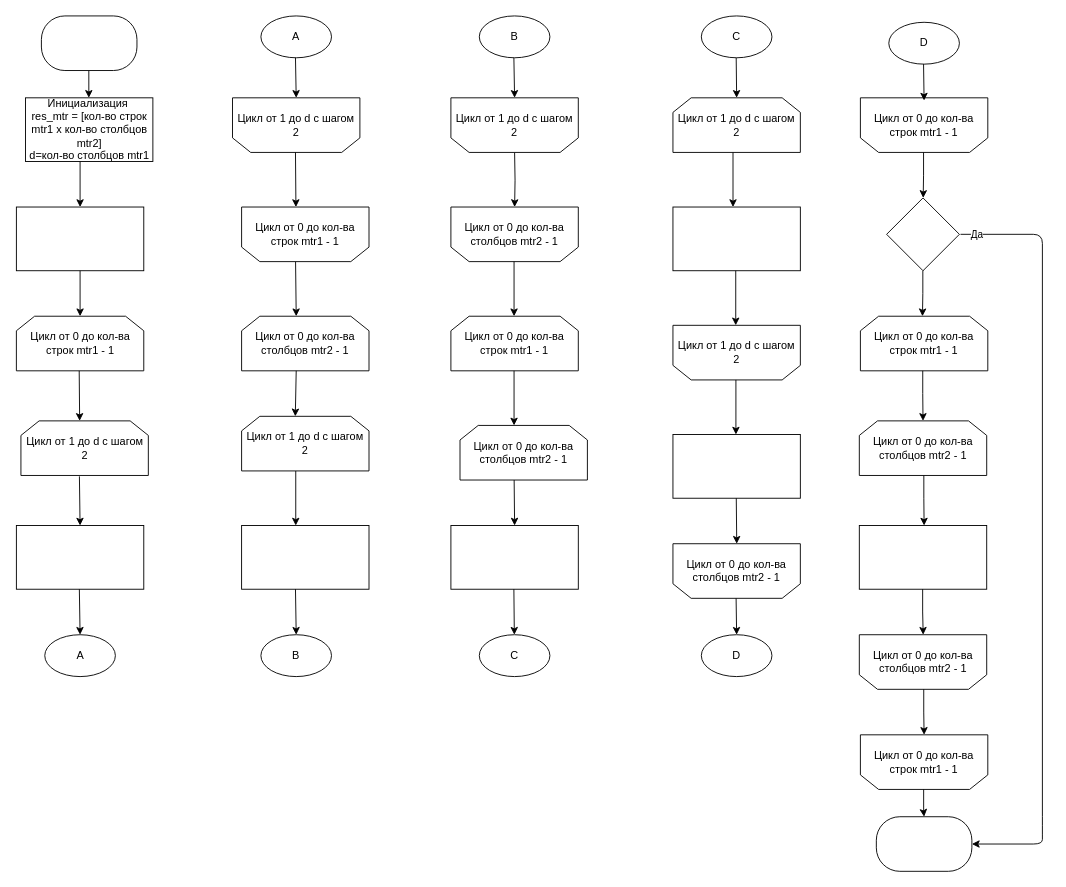
The diagram is 1066 pixels wide and 887 high, and some of its shapes have lost their labels. The shapes that lost their labels are listed below. From the top down, each one's centre as x and y in pixels, then its label:
At point 88,43: "Начало".
At point 79,238: "rowFactor = [0 for i in range(n1)] columnFactor = [0 for i in range(m2)]".
At point 736,238: "buffer += (mtr1[i][k - 1] + mtr2[k][j]) * (mtr1[i][k] + mtr2[k - 1][j])".
At point 922,234: "d четное?".
At point 736,466: "res_mtr[i][j] = buffer".
At point 79,557: "rowFactor[i] += mtr1[i][j - 1] * mtr1[i][j]".
At point 305,557: "columnFactor[i] += mtr2[j - 1][i] * mtr2[j][i]".
At point 514,557: "buffer = -rowFactor[i] - columnFactor[j]".
At point 922,557: "res_mtr[i][j] += mtr1[i][d - 1] * mtr2[d - 1][j]".
At point 923,843: "Конец".
